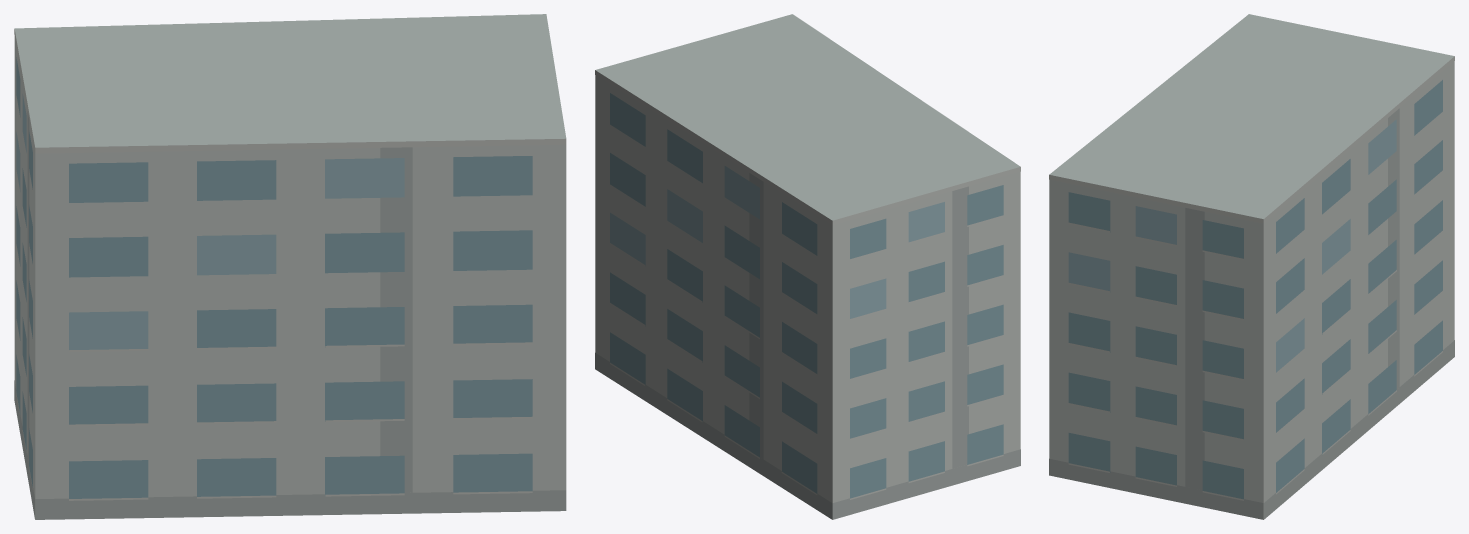
File: survey-upis-32885449.glb
The picture shows the model from 3 angles, left to right: view 1: azimuth 30°, elevation 25°; view 2: azimuth 150°, elevation 25°; view 3: azimuth 270°, elevation 25°; orthographic projection. The views are drawn at different scales.
Parts seen in each view (by area): view 1: survey-upis-32885449.tmp; view 2: survey-upis-32885449.tmp; view 3: survey-upis-32885449.tmp.
Part boxes in pixels (left/top/right/bottom): survey-upis-32885449.tmp: left=14, top=14, right=566, bottom=519; survey-upis-32885449.tmp: left=595, top=14, right=1020, bottom=519; survey-upis-32885449.tmp: left=1049, top=14, right=1454, bottom=519.
Size of the model in its own units: 22.32 by 15.25 by 18.65.
